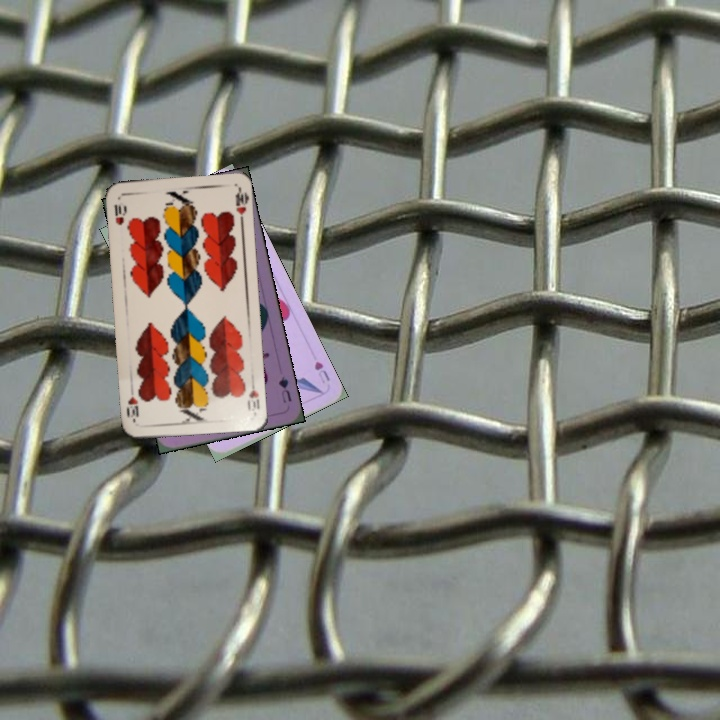GU: (274, 373, 294, 405)
H10: (243, 375, 262, 415), (110, 200, 129, 228)
HU: (310, 357, 332, 386)
